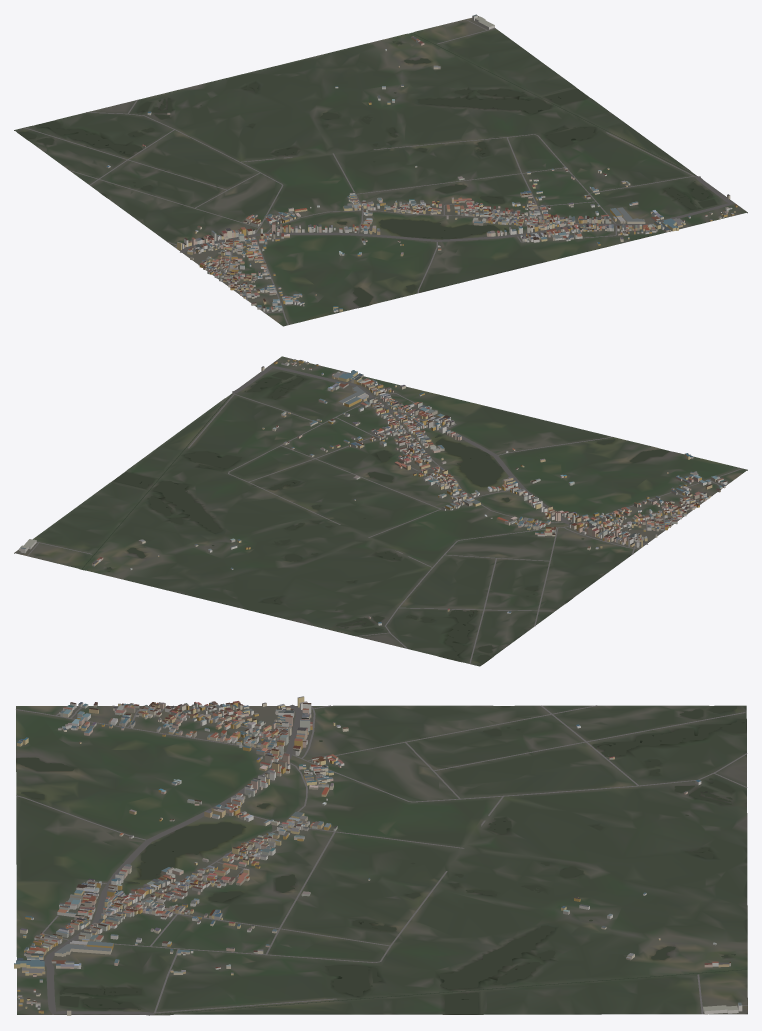
The picture shows the model from 3 angles, top to bottom: view 1: azimuth 30°, elevation 25°; view 2: azimuth 150°, elevation 25°; view 3: azimuth 270°, elevation 25°; orthographic projection. The views are drawn at different scales.
Parts seen in each view (by area): view 1: ground, buildings, water, roads; view 2: ground, buildings, water, roads; view 3: ground, buildings, water, roads.
Boxes of the visible parts, x1,y1,x2,y2 form: ground: (14,16,747,326); buildings: (106,14,737,312); water: (18,32,716,306); roads: (25,19,734,325); ground: (14,356,747,666); buildings: (19,359,727,625); water: (81,371,668,663); roads: (27,365,742,663); ground: (16,705,747,1015); buildings: (14,696,742,1015); water: (16,705,747,1014); roads: (16,704,747,1015).
Size of the model in its own units: 1415 by 27.37 by 1408.
